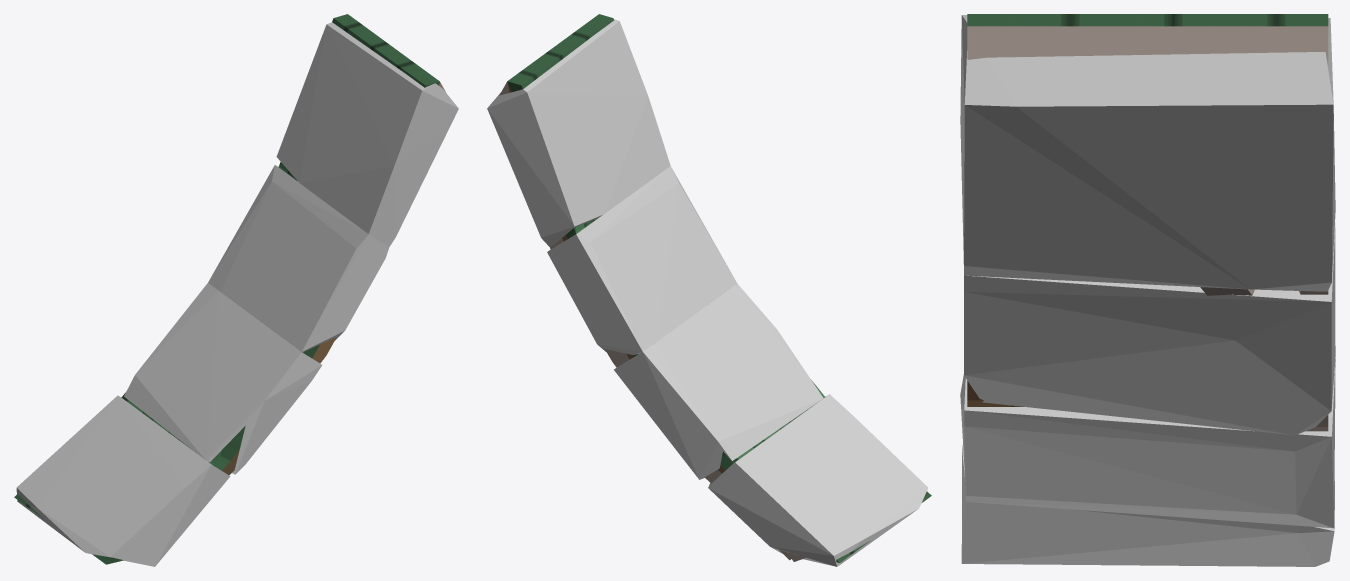
File: SM_Bld_Roof_Concave_Half_01.fbx
The picture shows the model from 3 angles, left to right: view 1: azimuth 30°, elevation 25°; view 2: azimuth 150°, elevation 25°; view 3: azimuth 270°, elevation 25°; orthographic projection. The views are drawn at different scales.
Visible parts, largest first — view 1: SM_Bld_Roof_Concave_Half_01_ConvexHulls, SM_Bld_Roof_Concave_Half_01; view 2: SM_Bld_Roof_Concave_Half_01_ConvexHulls, SM_Bld_Roof_Concave_Half_01; view 3: SM_Bld_Roof_Concave_Half_01_ConvexHulls, SM_Bld_Roof_Concave_Half_01.
Part boxes in pixels (bbox=[...]): SM_Bld_Roof_Concave_Half_01_ConvexHulls: bbox=[16, 22, 458, 566]; SM_Bld_Roof_Concave_Half_01: bbox=[14, 14, 445, 564]; SM_Bld_Roof_Concave_Half_01_ConvexHulls: bbox=[487, 19, 928, 566]; SM_Bld_Roof_Concave_Half_01: bbox=[499, 14, 931, 562]; SM_Bld_Roof_Concave_Half_01_ConvexHulls: bbox=[960, 15, 1335, 566]; SM_Bld_Roof_Concave_Half_01: bbox=[967, 14, 1328, 431].
Bounding box in the file's own units: 279 × 130 × 310.
Materials: 4 (3 with a texture image).
